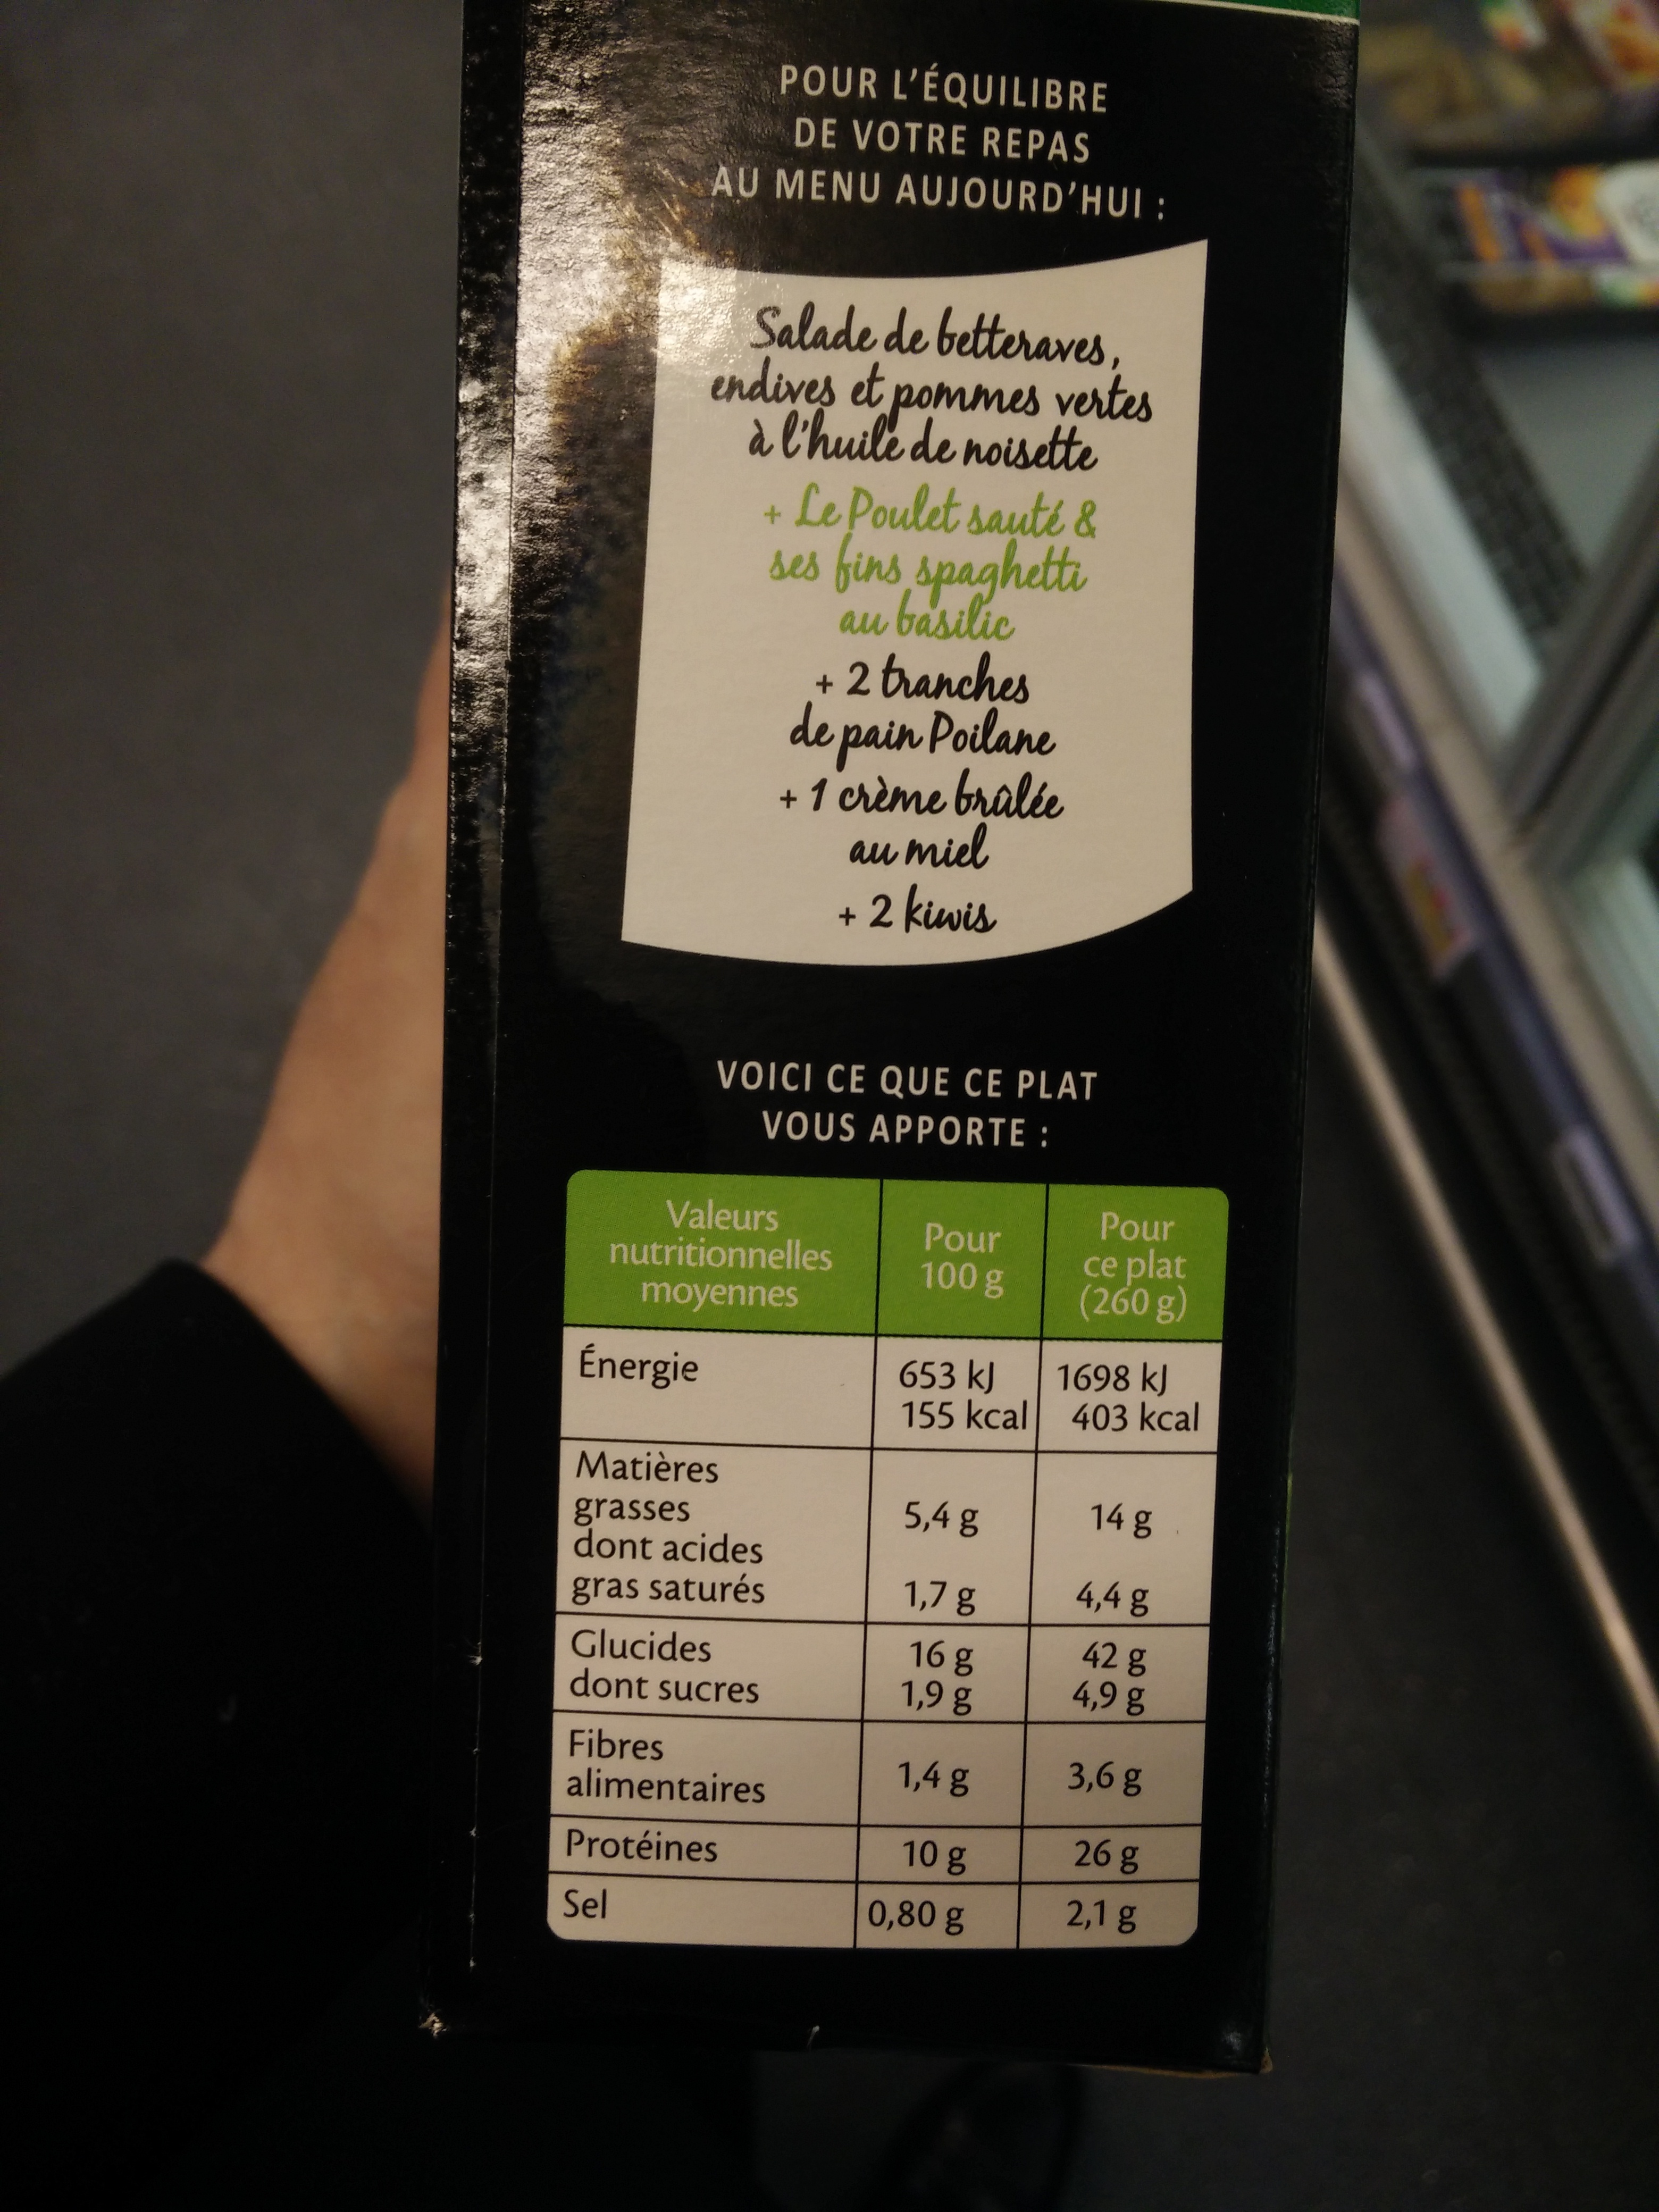column: (565, 1184, 835, 1933), (877, 1184, 1026, 1940), (1058, 1184, 1204, 1944)
table: (551, 1160, 1232, 1954)
